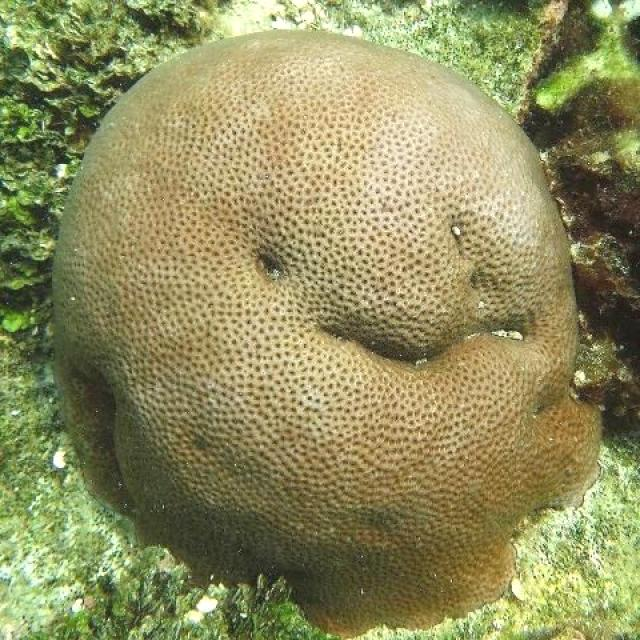Coral: (50, 32, 603, 640)
